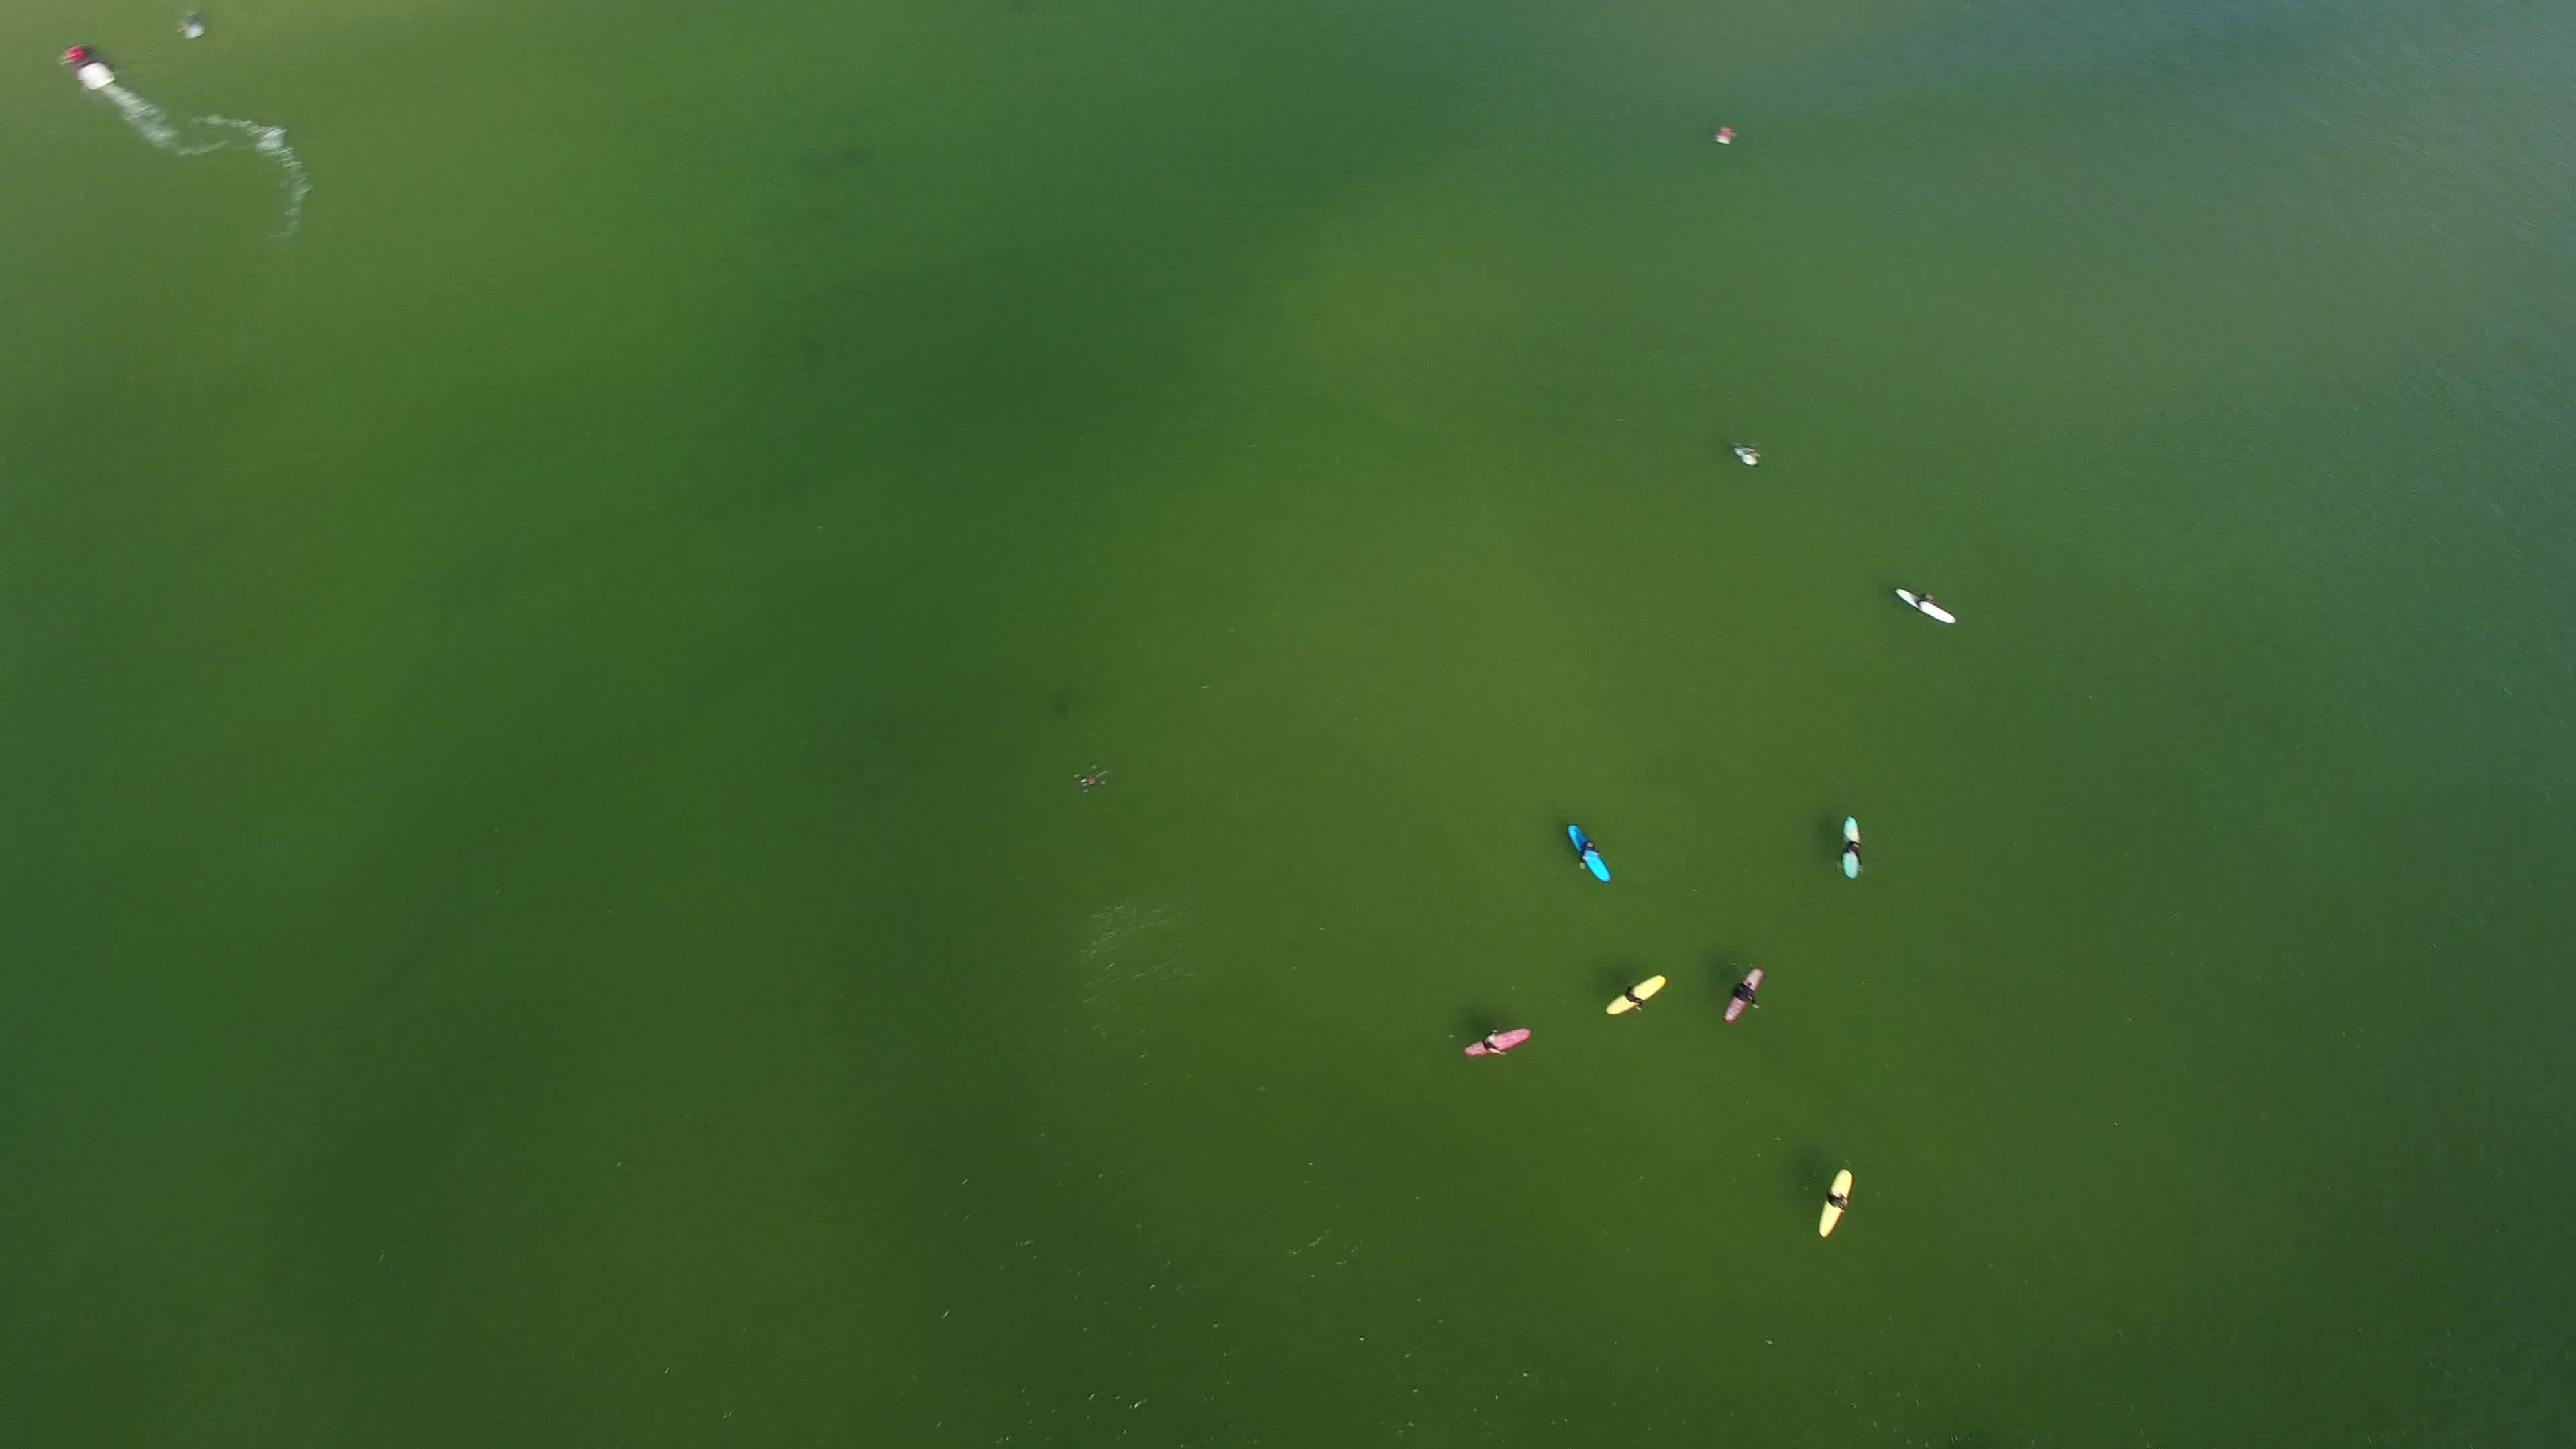surfer: (1557, 810, 1624, 895), (1592, 968, 1677, 1028), (1890, 573, 1969, 633), (1813, 1162, 1861, 1249), (1456, 1012, 1529, 1063), (1714, 968, 1771, 1030), (1831, 809, 1870, 888), (1723, 435, 1771, 476), (1707, 124, 1744, 157)
